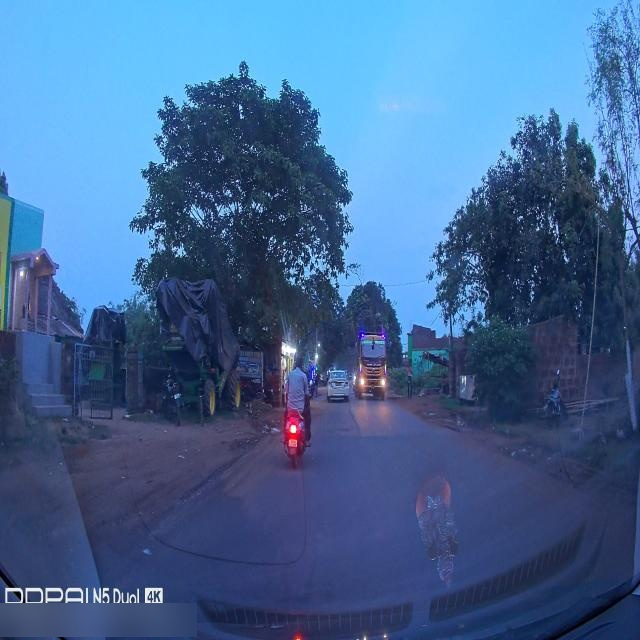pothole: (262, 421, 280, 437)
